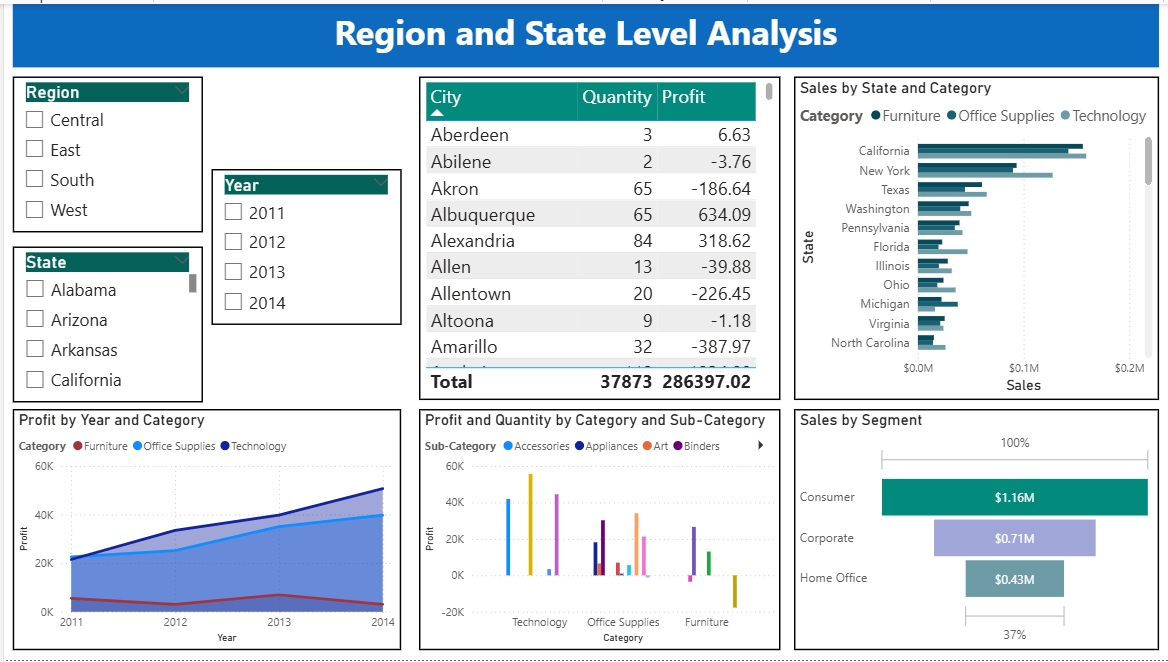

The dashboard page shown, as its layout file describes it:
{"tool":"powerbi","page":{"name":"Region and State","canvas":[1280,720],"ordinal":1},"visuals":[{"type":"textbox","box":[9.6,0,1258.3,70],"z":0},{"type":"slicer","fields":{"Values":["Superstore_sales_dataset.Region"]},"box":[9.6,79.6,208.6,171.5],"z":1000},{"type":"slicer","fields":{"Values":["Superstore_sales_dataset.State"]},"box":[9.6,266.2,208.6,171.5],"z":2000},{"type":"slicer","fields":{"Values":["Superstore_sales_dataset.Year"]},"box":[227.8,181.1,208.6,171.5],"z":3000},{"type":"tableEx","fields":{"Values":["Superstore_sales_dataset.City","Sum(Superstore_sales_dataset.Quantity)","Sum(Superstore_sales_dataset.Profit)"]},"box":[455.6,79.6,396.6,355.4],"z":4000},{"type":"clusteredBarChart","fields":{"Category":["Superstore_sales_dataset.State"],"Series":["Superstore_sales_dataset.Category"],"Y":["Sum(Superstore_sales_dataset.Sales)"]},"box":[867.2,79.6,400.7,355.4],"z":5000},{"type":"areaChart","fields":{"Series":["Superstore_sales_dataset.Category"],"Y":["Sum(Superstore_sales_dataset.Profit)"],"Category":["Superstore_sales_dataset.Year"]},"box":[9.6,444.6,426.8,264.8],"z":6000},{"type":"lineClusteredColumnComboChart","fields":{"Category":["Superstore_sales_dataset.Category"],"Series":["Superstore_sales_dataset.Sub-Category"],"Y":["Sum(Superstore_sales_dataset.Profit)"]},"box":[456,445,397,265],"z":7000},{"type":"funnel","fields":{"Y":["Sum(Superstore_sales_dataset.Sales)"],"Category":["Superstore_sales_dataset.Segment"]},"box":[867,445,401,265],"z":8000}]}

Visuals, with their boxes in screenshot pixels (x1, y1, x2, y2), scaled from the page's 1280x720 canvas onto the 1168x662 screenshot:
textbox: {"left": 9, "top": 0, "right": 1157, "bottom": 64}
slicer - Superstore_sales_dataset.Region: {"left": 9, "top": 73, "right": 199, "bottom": 231}
slicer - Superstore_sales_dataset.State: {"left": 9, "top": 245, "right": 199, "bottom": 402}
slicer - Superstore_sales_dataset.Year: {"left": 208, "top": 167, "right": 398, "bottom": 324}
tableEx - Superstore_sales_dataset.City x Sum(Superstore_sales_dataset.Quantity): {"left": 416, "top": 73, "right": 778, "bottom": 400}
clusteredBarChart - Superstore_sales_dataset.State x Superstore_sales_dataset.Category: {"left": 791, "top": 73, "right": 1157, "bottom": 400}
areaChart - Superstore_sales_dataset.Category x Sum(Superstore_sales_dataset.Profit): {"left": 9, "top": 409, "right": 398, "bottom": 652}
lineClusteredColumnComboChart - Superstore_sales_dataset.Category x Superstore_sales_dataset.Sub-Category: {"left": 416, "top": 409, "right": 778, "bottom": 653}
funnel - Sum(Superstore_sales_dataset.Sales) x Superstore_sales_dataset.Segment: {"left": 791, "top": 409, "right": 1157, "bottom": 653}
